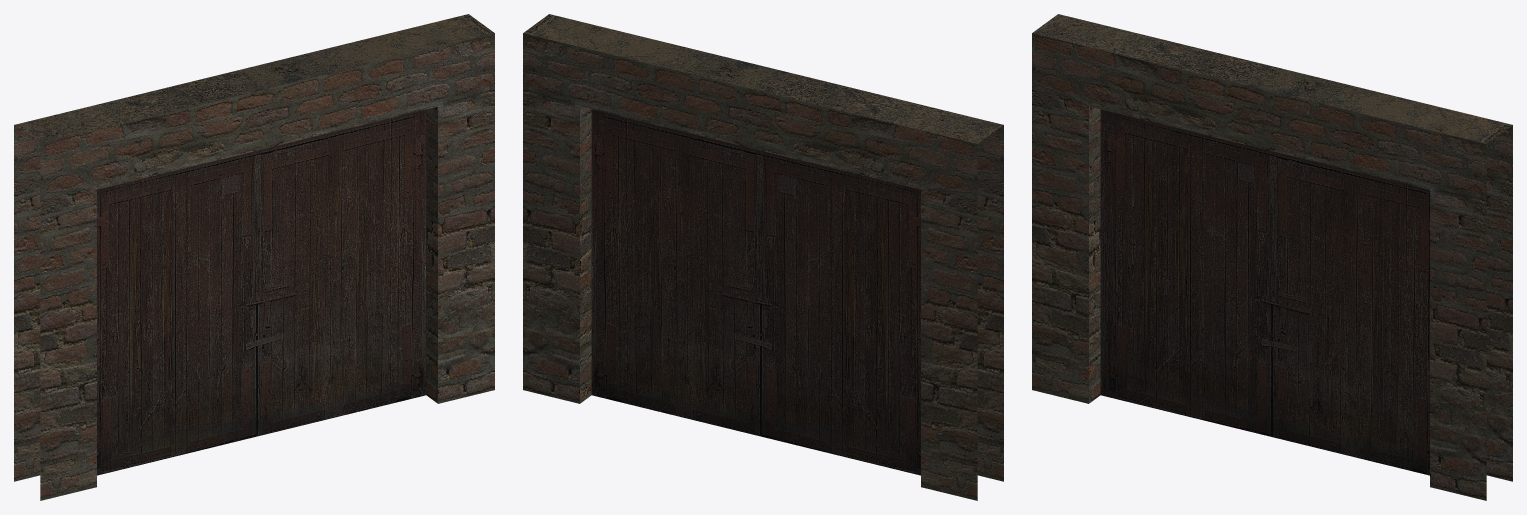
The model's file is garage_door_frame_hr_2.glb.
The picture shows the model from 3 angles, left to right: view 1: azimuth 30°, elevation 25°; view 2: azimuth 150°, elevation 25°; view 3: azimuth 330°, elevation 25°; orthographic projection.
Visible parts, largest first — view 1: garage_door_hm_5, garage_door_frame_hr_2; view 2: garage_door_hm_5, garage_door_frame_hr_2; view 3: garage_door_hm_5, garage_door_frame_hr_2.
Part boxes in pixels (<box>): garage_door_hm_5: <box>97,109,426,475</box>; garage_door_frame_hr_2: <box>14,14,494,500</box>; garage_door_hm_5: <box>591,109,920,475</box>; garage_door_frame_hr_2: <box>523,14,1003,500</box>; garage_door_hm_5: <box>1100,109,1429,475</box>; garage_door_frame_hr_2: <box>1032,14,1512,500</box>.
Bounding box in the file's own units: 4 × 3 × 0.4.
3 materials, 3 textured.
